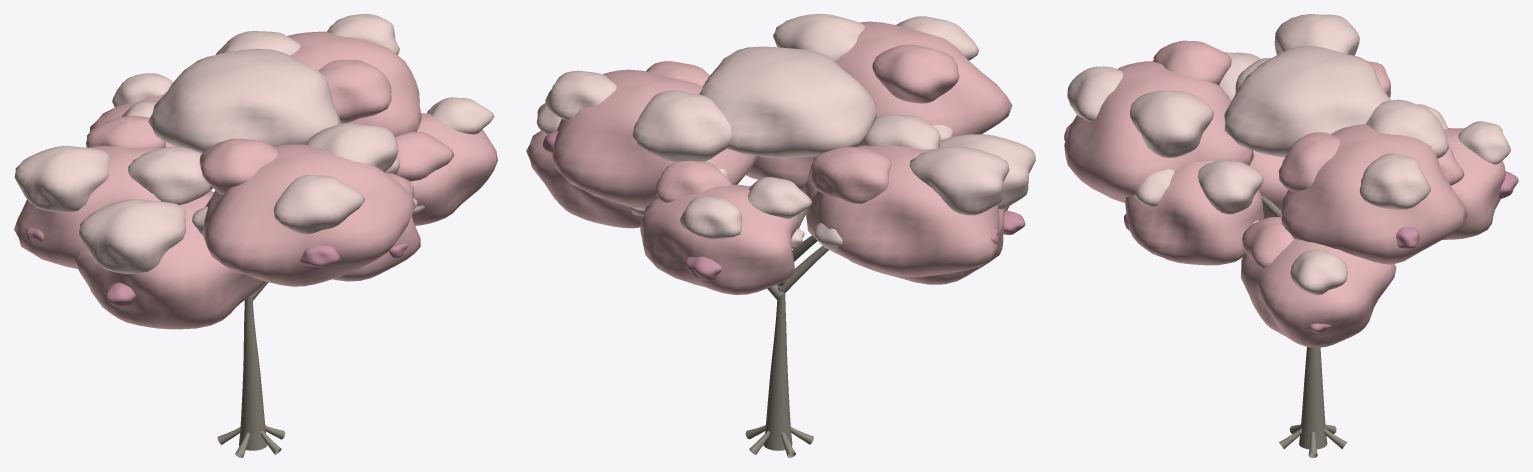
The model's file is diotree02.glb.
3 views of the same model, side by side, from view 1: azimuth 30°, elevation 25°; view 2: azimuth 150°, elevation 25°; view 3: azimuth 270°, elevation 25° (orthographic).
Parts seen in each view (by area): view 1: DioTree02_Bloom, DioTree02_BloomLight, DioTree02_Trunk, DioTree02_BloomShade; view 2: DioTree02_Bloom, DioTree02_BloomLight, DioTree02_Trunk, DioTree02_BloomShade; view 3: DioTree02_Bloom, DioTree02_BloomLight, DioTree02_Trunk, DioTree02_BloomShade.
Part boxes in pixels (x1,y1,x2,y2): DioTree02_Bloom: (14,31,497,329); DioTree02_BloomLight: (14,14,494,273); DioTree02_Trunk: (209,189,285,457); DioTree02_BloomShade: (25,228,408,306); DioTree02_Bloom: (526,21,1012,294); DioTree02_BloomLight: (536,14,1035,250); DioTree02_Trunk: (745,173,828,457); DioTree02_BloomShade: (542,131,1025,280); DioTree02_Bloom: (1064,40,1505,347); DioTree02_BloomLight: (1067,14,1510,294); DioTree02_Trunk: (1261,195,1347,457); DioTree02_BloomShade: (1064,123,1518,332).
Bounding box in the file's own units: 10.45 × 8.18 × 8.89.
